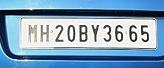0: (65, 23, 75, 42)
2: (53, 23, 64, 42)
3: (101, 23, 112, 42)
5: (139, 23, 149, 42)
6: (113, 22, 123, 42), (127, 23, 137, 42)
B: (77, 23, 88, 42)
H: (38, 24, 49, 41)
M: (27, 23, 37, 42)
Y: (89, 22, 99, 42)
